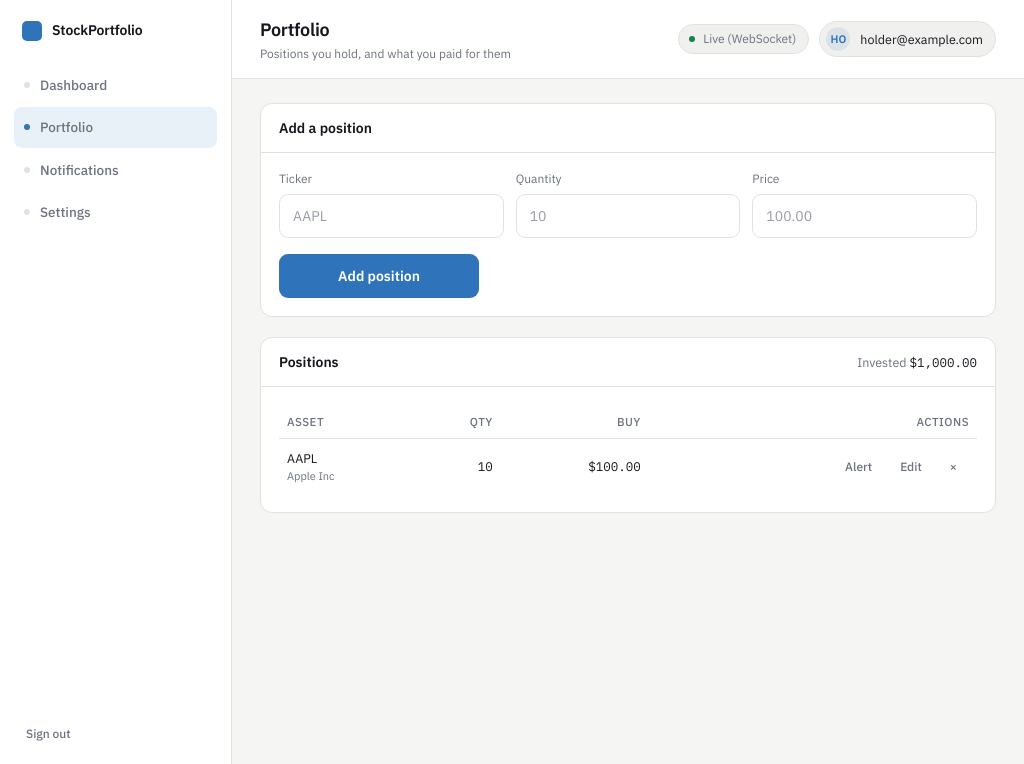
Test case: alerts in the browser › leaves the portfolio page working when the alerts module is down
The width and height of the screenshot is (1024, 764).
Check: the heading "Portfolio" is shown, box [260,18,330,41]
Check: the text "AAPL" is shown, box [287,450,317,466]
Click the button with aria-label "set an alert on AAPL" at (859, 466), box [833,452,884,480]
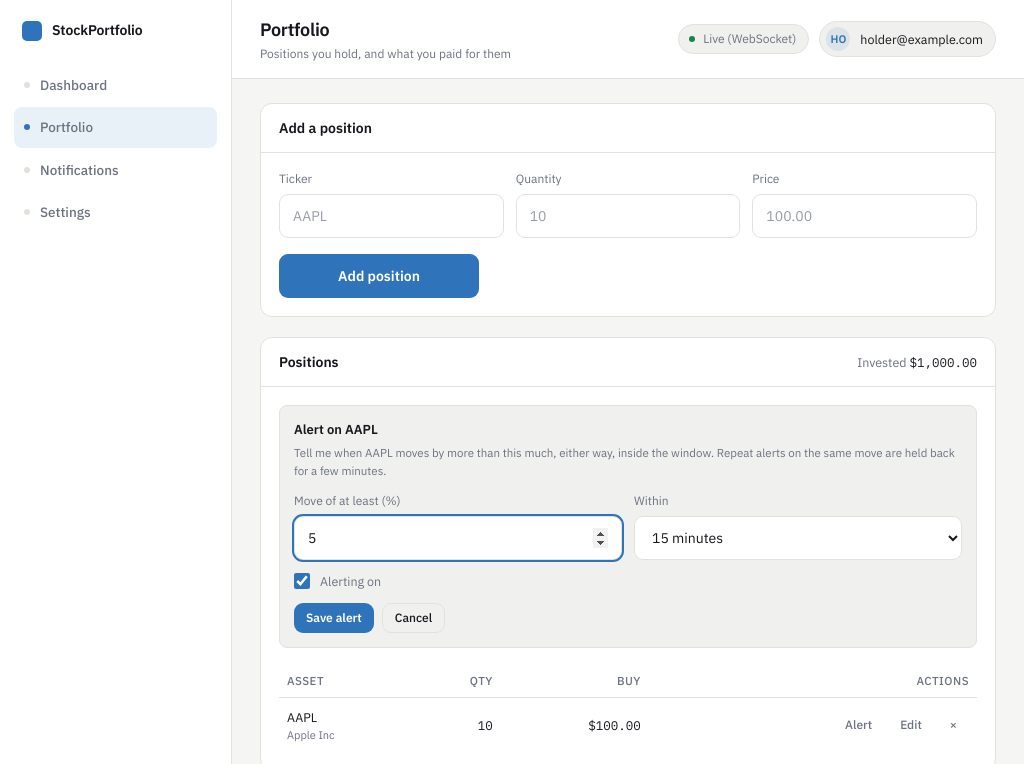
Check: the heading "Alert on AAPL" is shown, box [294,421,378,438]
